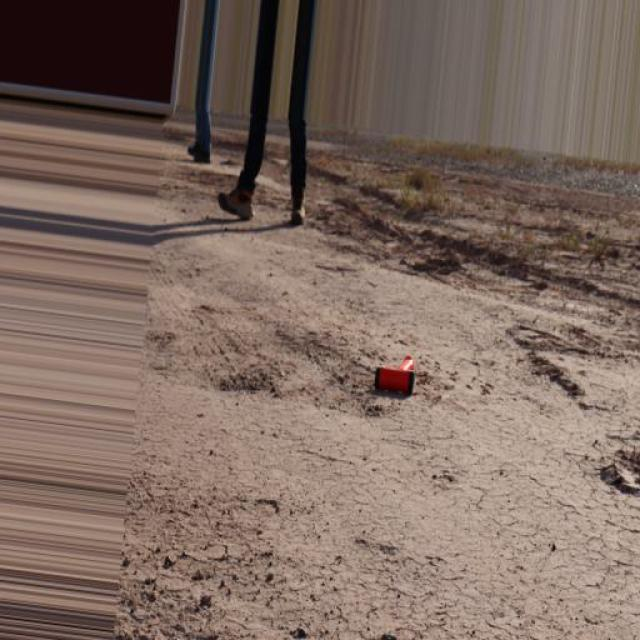mallet: (373, 354, 415, 396)
